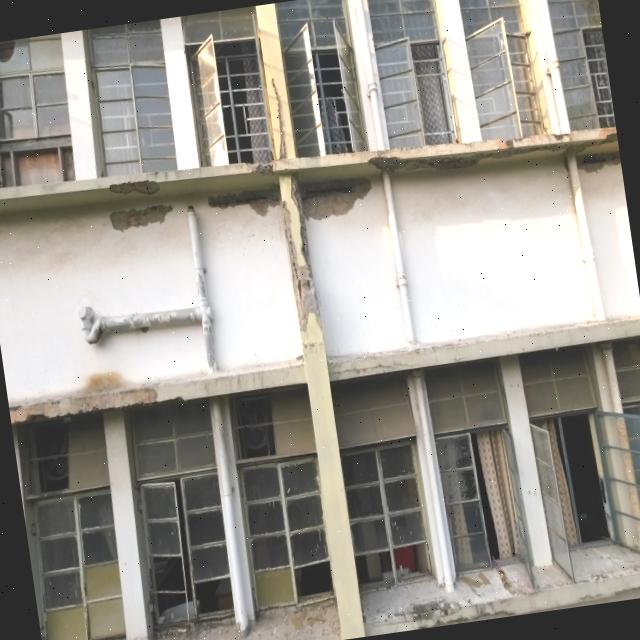Broken window pane: (342, 445, 427, 583), (282, 461, 332, 597)
Corrosion stain: (9, 387, 157, 424), (83, 371, 125, 392), (599, 127, 617, 141), (494, 139, 513, 149)
Spalling: (278, 173, 364, 639), (258, 15, 279, 65)
pollution -moisture induced blackening: (411, 600, 503, 629)
